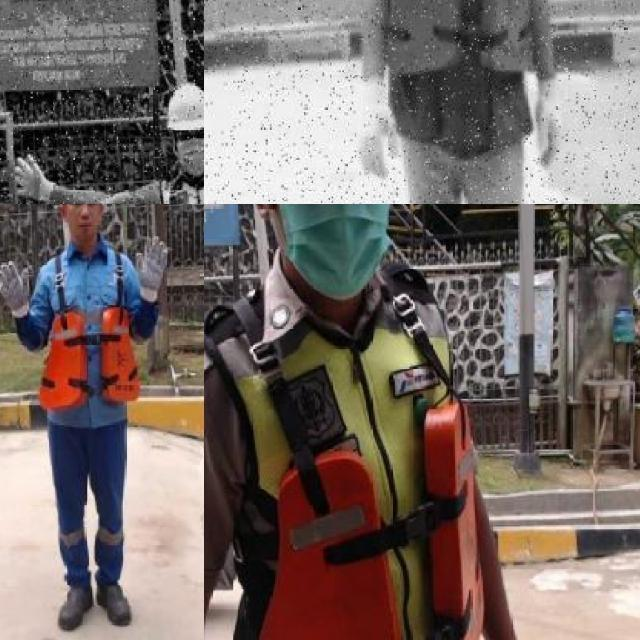apron: (357, 76, 402, 188), (132, 230, 172, 304), (533, 75, 564, 168), (0, 253, 35, 330), (10, 150, 58, 204)
